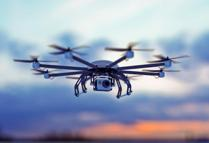UAV: (161, 130, 209, 143)
